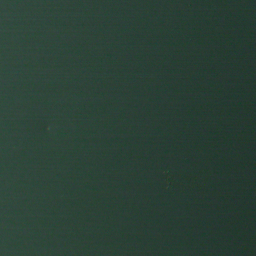dent: (41, 120, 66, 141)
